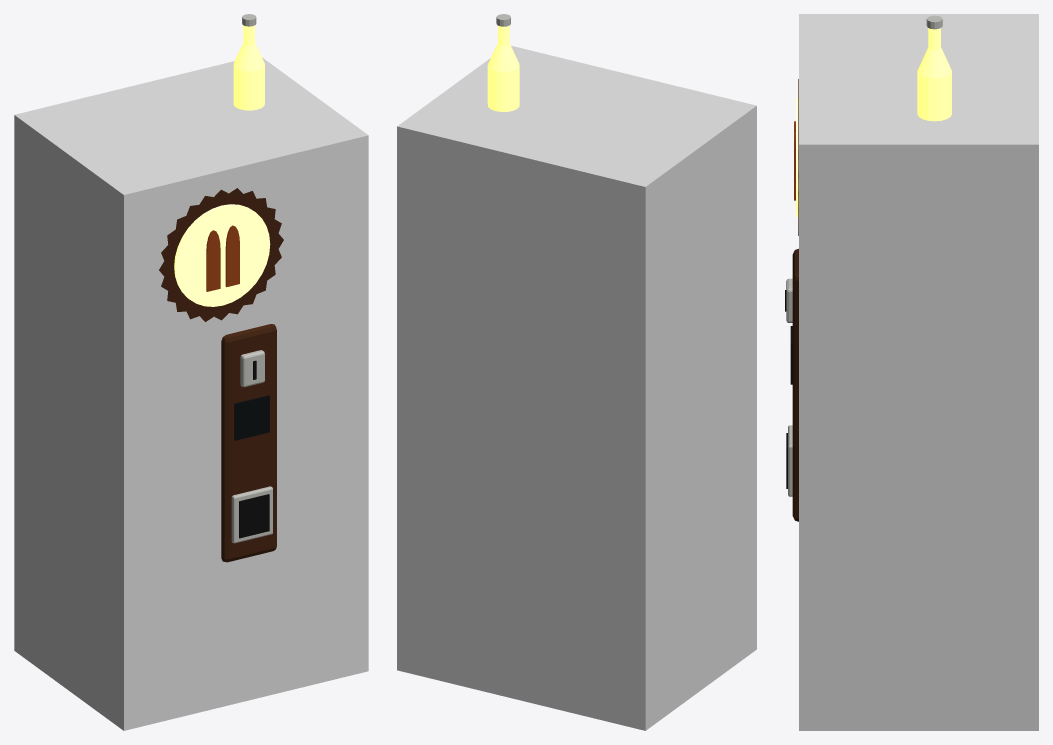
The model's file is twin.glb.
The picture shows the model from 3 angles, left to right: view 1: azimuth 30°, elevation 25°; view 2: azimuth 150°, elevation 25°; view 3: azimuth 270°, elevation 25°; orthographic projection. The views are drawn at different scales.
Visible parts, largest first — view 1: col_0, paint2, lit_sign, lit_lamp, chrome, lit_ink, glass, dark; view 2: col_0, lit_lamp; view 3: col_0, lit_lamp, paint2, chrome.
Boxes of the visible parts, x1,y1,x2,y2 form: col_0: (14, 57, 368, 730); paint2: (159, 188, 283, 562); lit_sign: (174, 204, 270, 306); lit_lamp: (233, 25, 264, 110); chrome: (231, 14, 272, 543); lit_ink: (206, 225, 239, 291); glass: (234, 395, 269, 440); dark: (239, 360, 269, 538); col_0: (397, 45, 756, 730); lit_lamp: (487, 25, 519, 111); col_0: (799, 14, 1038, 730); lit_lamp: (917, 28, 951, 121); paint2: (792, 79, 798, 521); chrome: (786, 15, 942, 496).
Bounding box in the file's own units: 0.98 × 2.38 × 0.804.
